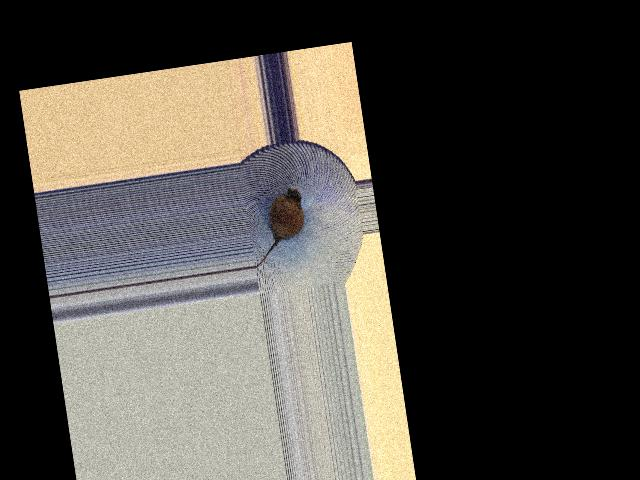beet: (244, 186, 309, 267)
